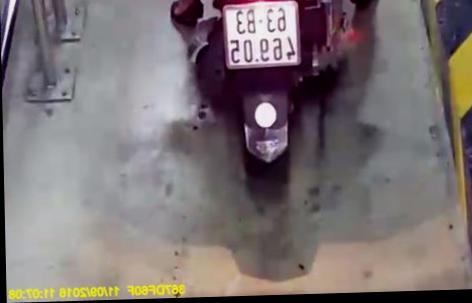License_Plate: (218, 0, 306, 77)
